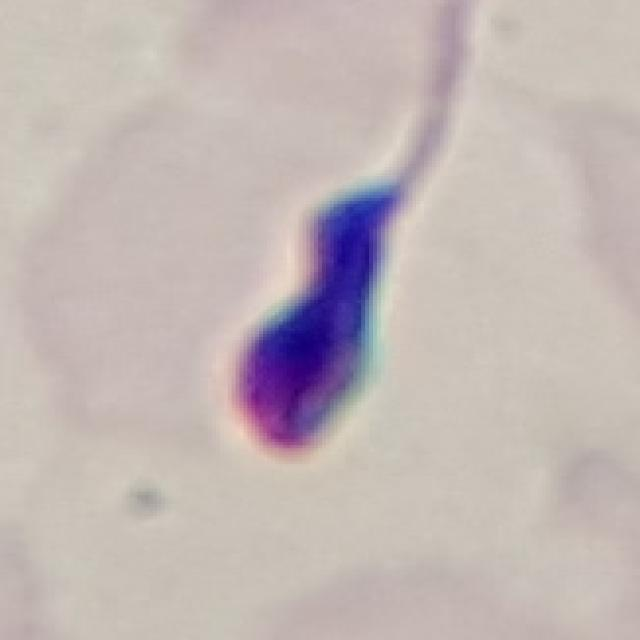abnormal sperm: (232, 50, 464, 462)
